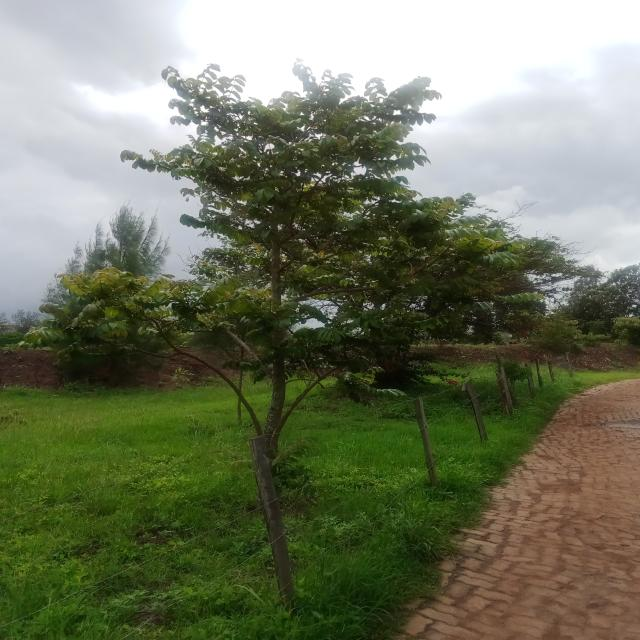Polyscias Kikuyensis: (25, 0, 557, 640)
